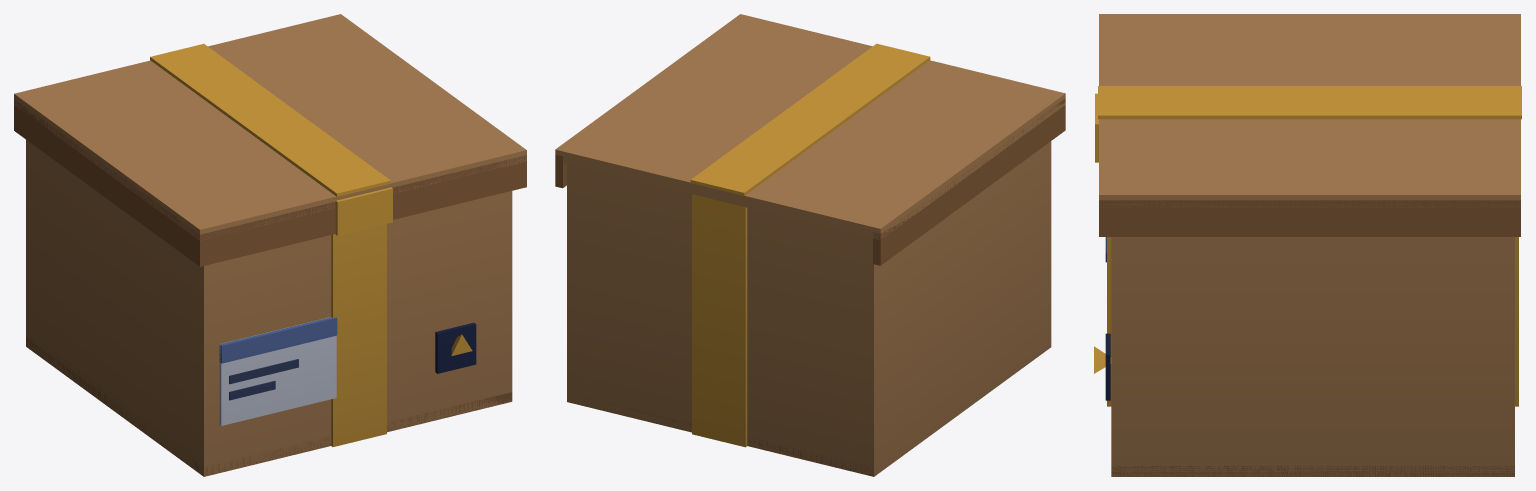
3 views of the same model, side by side, from view 1: azimuth 30°, elevation 25°; view 2: azimuth 150°, elevation 25°; view 3: azimuth 270°, elevation 25° (orthographic). The views are drawn at different scales.
Parts seen in each view (by area): view 1: Box, Box_Lid; view 2: Box, Box_Lid; view 3: Box, Box_Lid.
Boxes of the visible parts, box(x1,y1,x2,y2) form: Box: box(26, 140, 512, 476); Box_Lid: box(14, 14, 526, 266); Box: box(567, 141, 1051, 476); Box_Lid: box(555, 14, 1065, 265); Box: box(1094, 237, 1518, 476); Box_Lid: box(1095, 14, 1521, 236).
Bounding box in the file's own units: 0.424 × 0.318 × 0.424.
